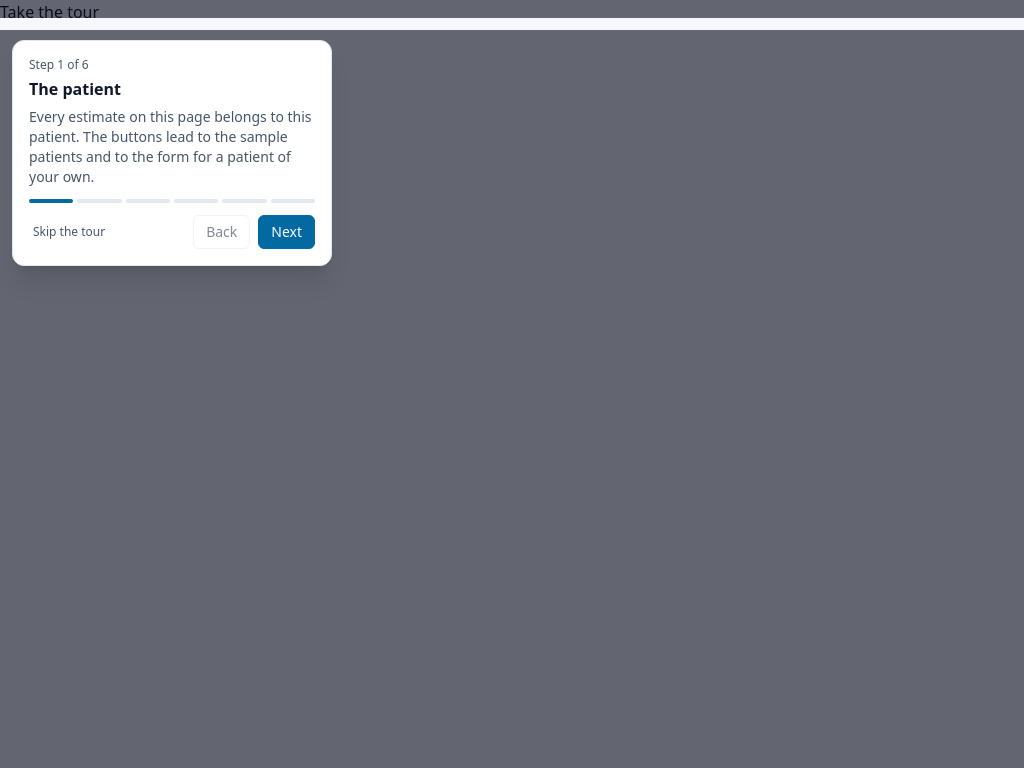
Test case: guided tour › goes back a step, and moves with the arrow keys
Click the button "Next".
click(287, 232)  # box 258,215 -> 315,249
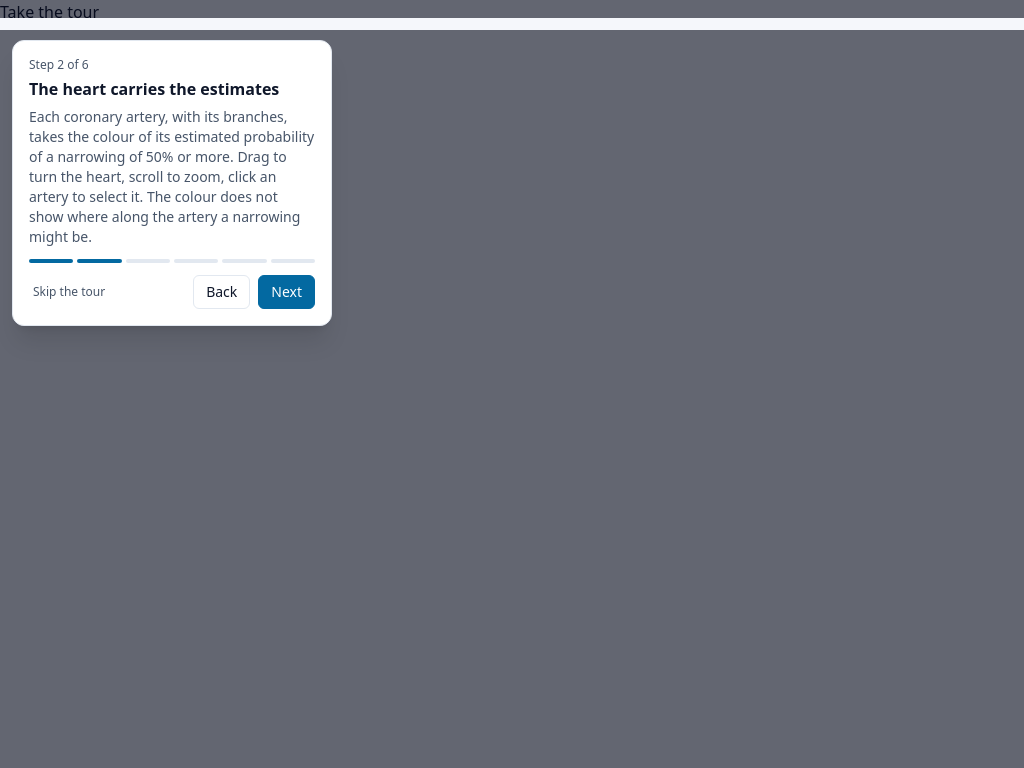
Click the button "Back".
click(222, 292)  # box 193,275 -> 250,309
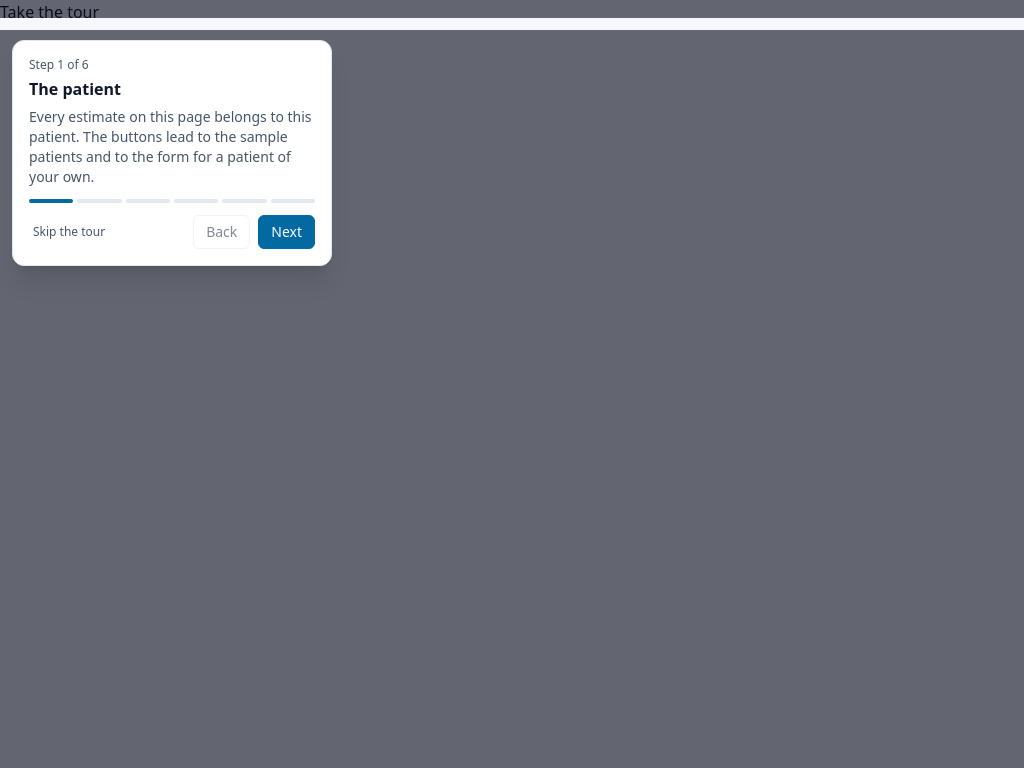
Check: the heading reads "The patient", box 29,78 -> 121,100
Press ArrowRight in the dialog named "Guided tour", box 12,40 -> 332,266
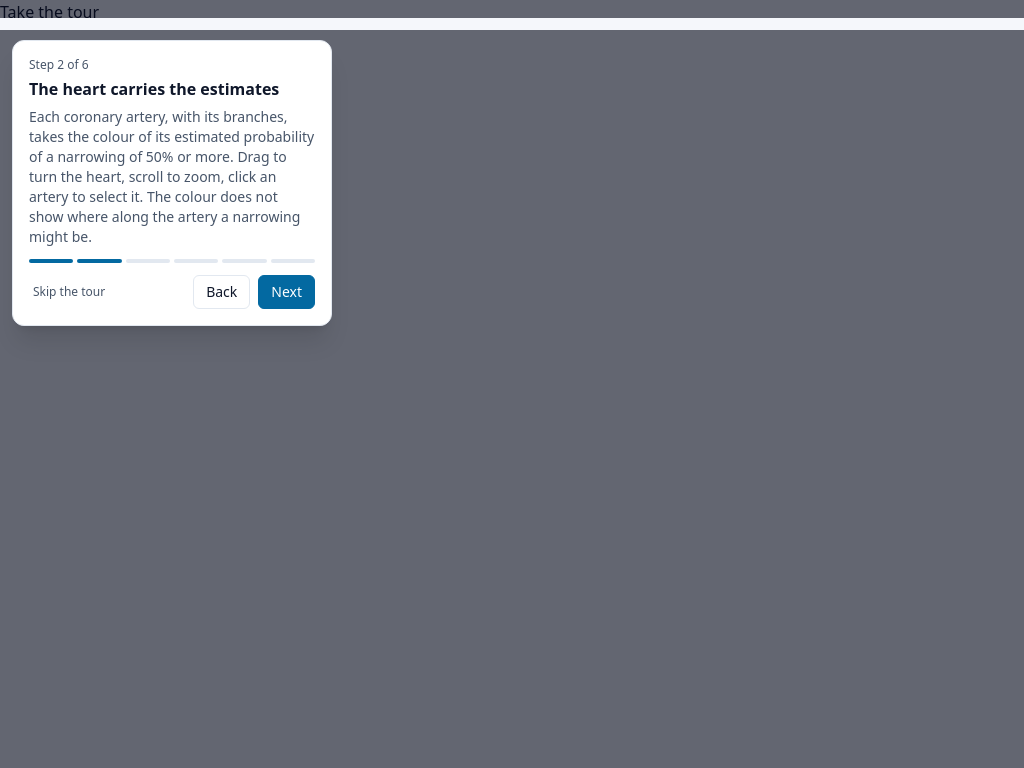
Press ArrowRight in the dialog named "Guided tour", box 12,40 -> 332,326
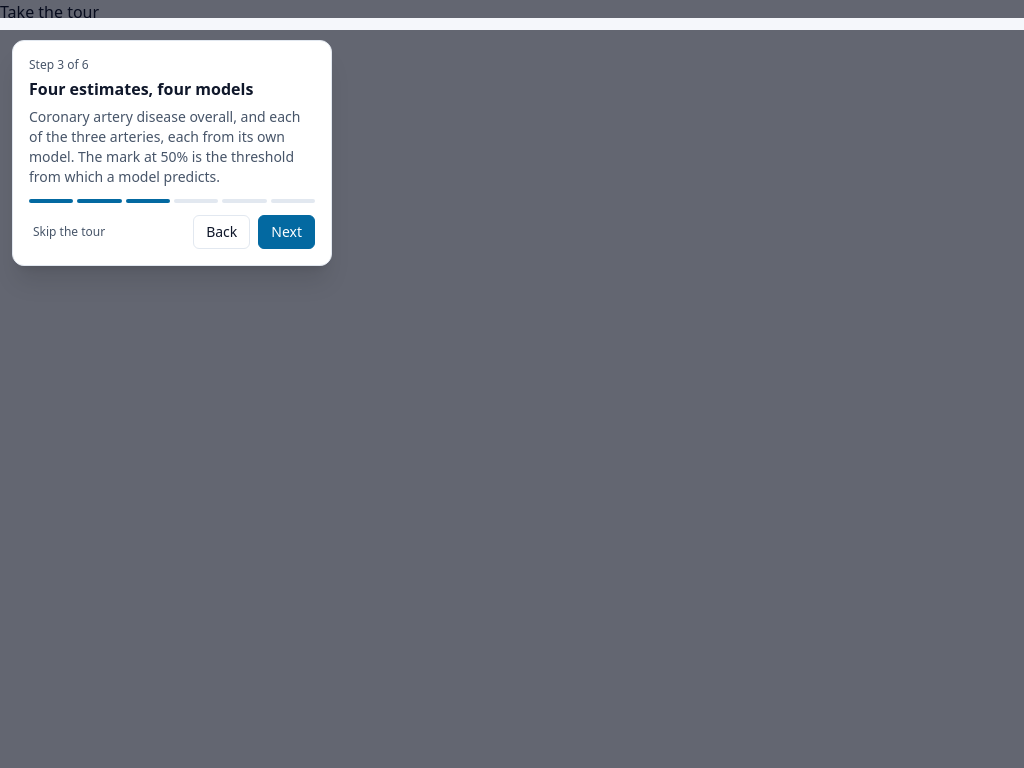
Check: the heading reads "Four estimates, four models", box 29,78 -> 253,100
Press ArrowLeft in the dialog named "Guided tour", box 12,40 -> 332,266
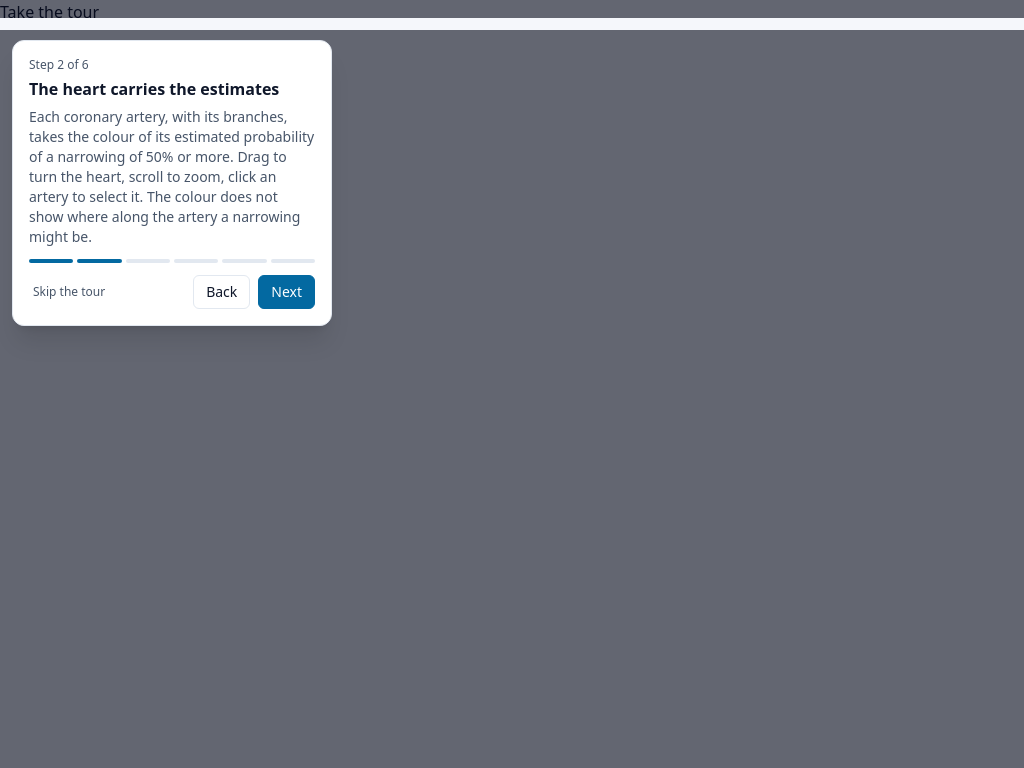
Check: the heading reads "The heart carries the estimates", box 29,78 -> 279,100
